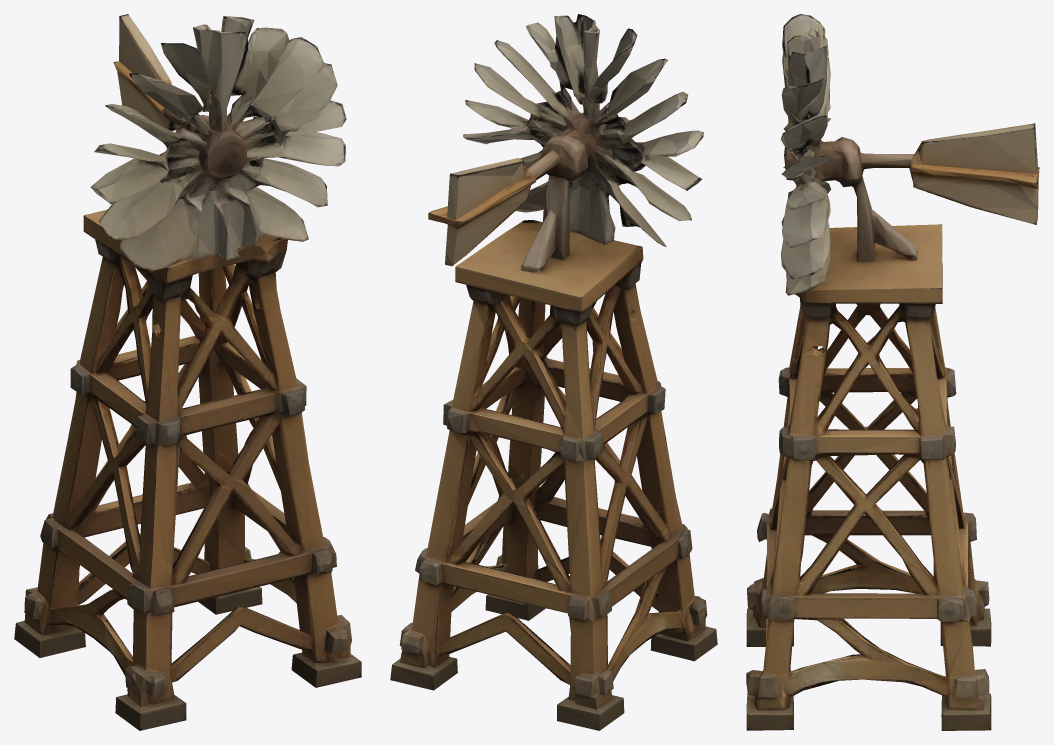
Rendered from wind_tower.glb.
3 views of the same model, side by side, from view 1: azimuth 30°, elevation 25°; view 2: azimuth 150°, elevation 25°; view 3: azimuth 270°, elevation 25° (orthographic). The views are drawn at different scales.
Visible parts, largest first — view 1: world; view 2: world; view 3: world.
Boxes of the visible parts, x1,y1,x2,y2 form: world: (14,14,361,730); world: (390,14,717,730); world: (746,14,1039,730).
Bounding box in the file's own units: 0.398 × 1 × 0.4157.
1 material, 1 textured.
